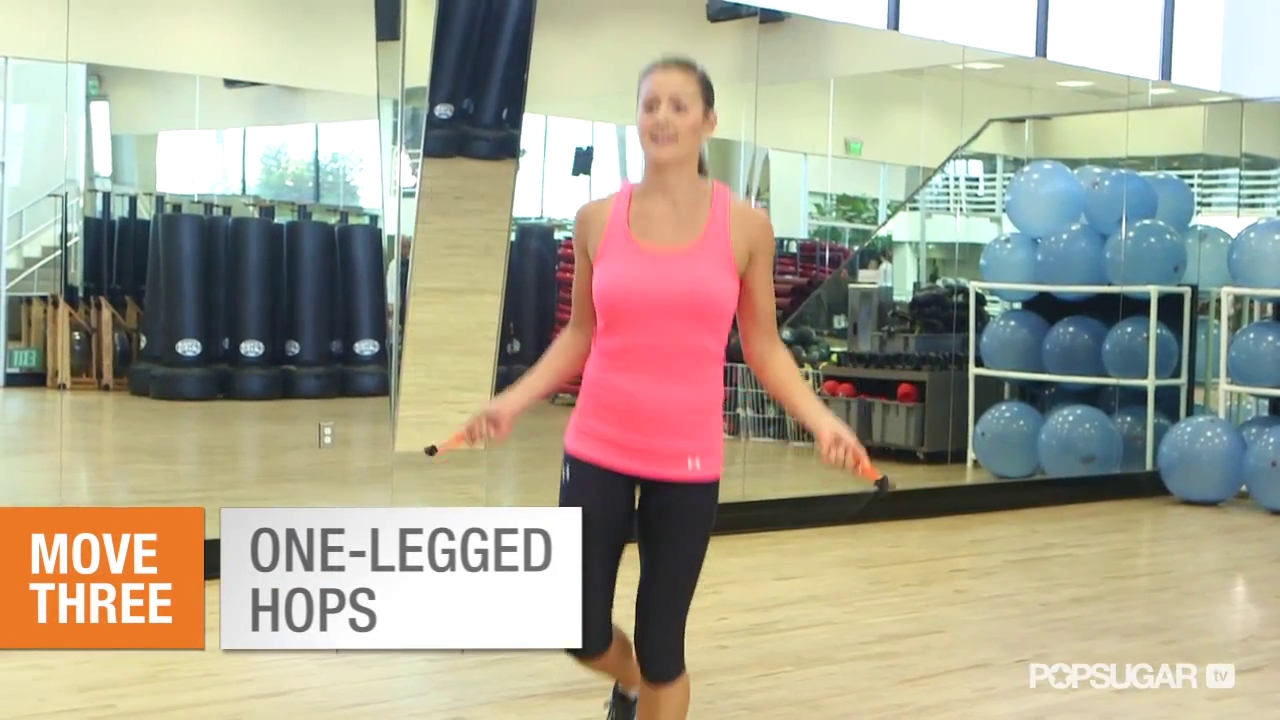person: (463, 57, 870, 720)
